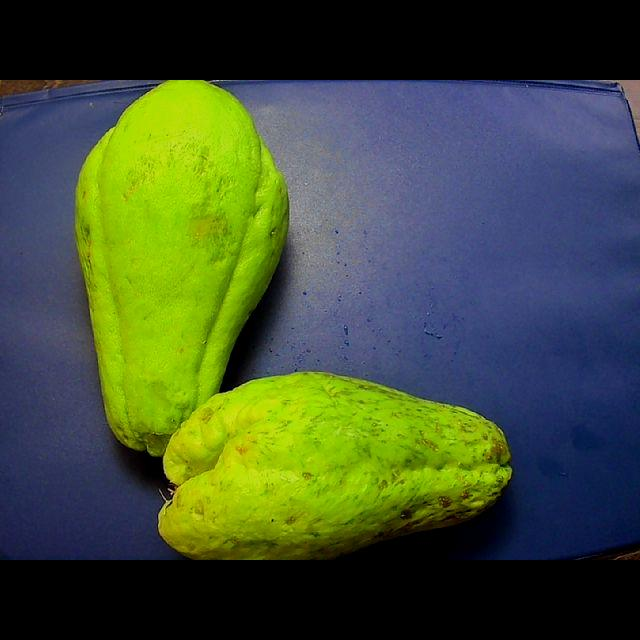chayote: (76, 80, 287, 456), (158, 372, 511, 559)
